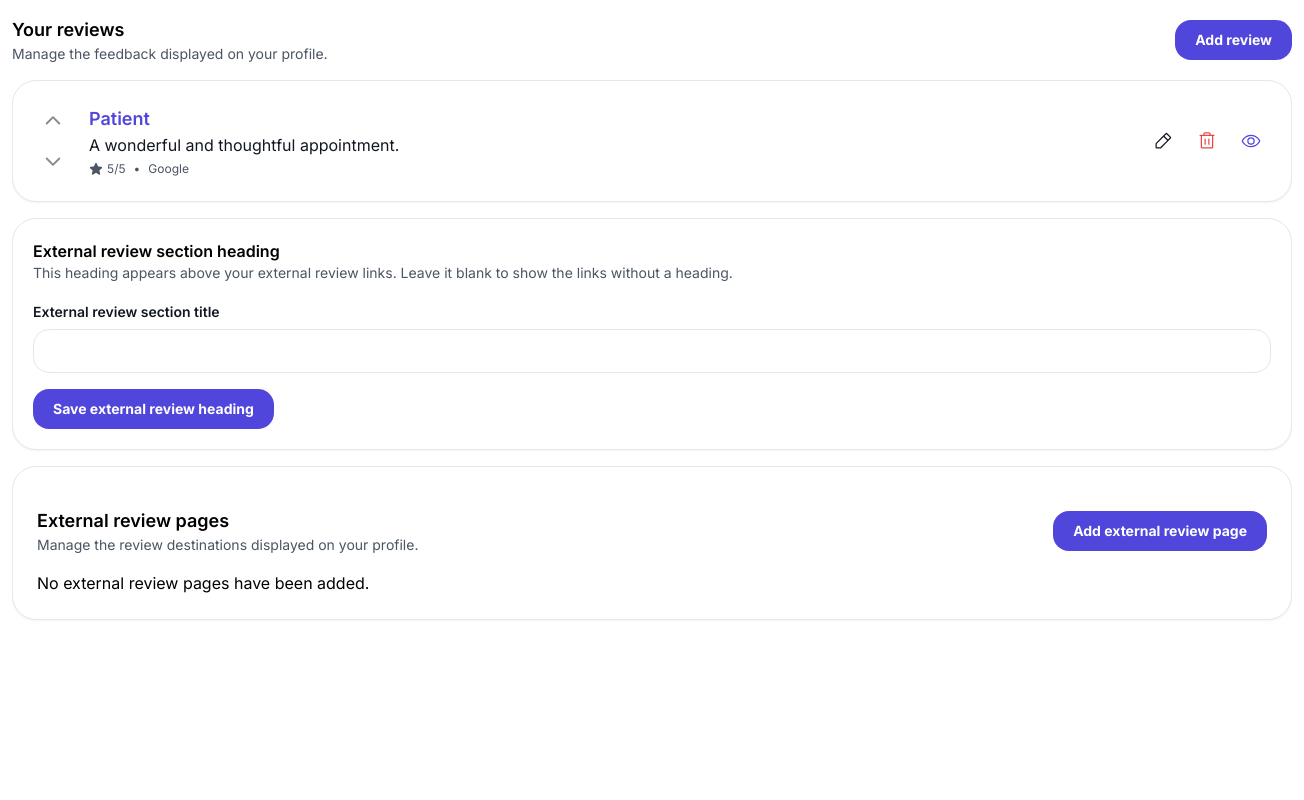
Test case: ReviewManager › updates review visibility after the authoritative toggle succeeds
Click the button named "Hide Patient". click: (1251, 141)
box: x1=1231 y1=121 x2=1271 y2=161
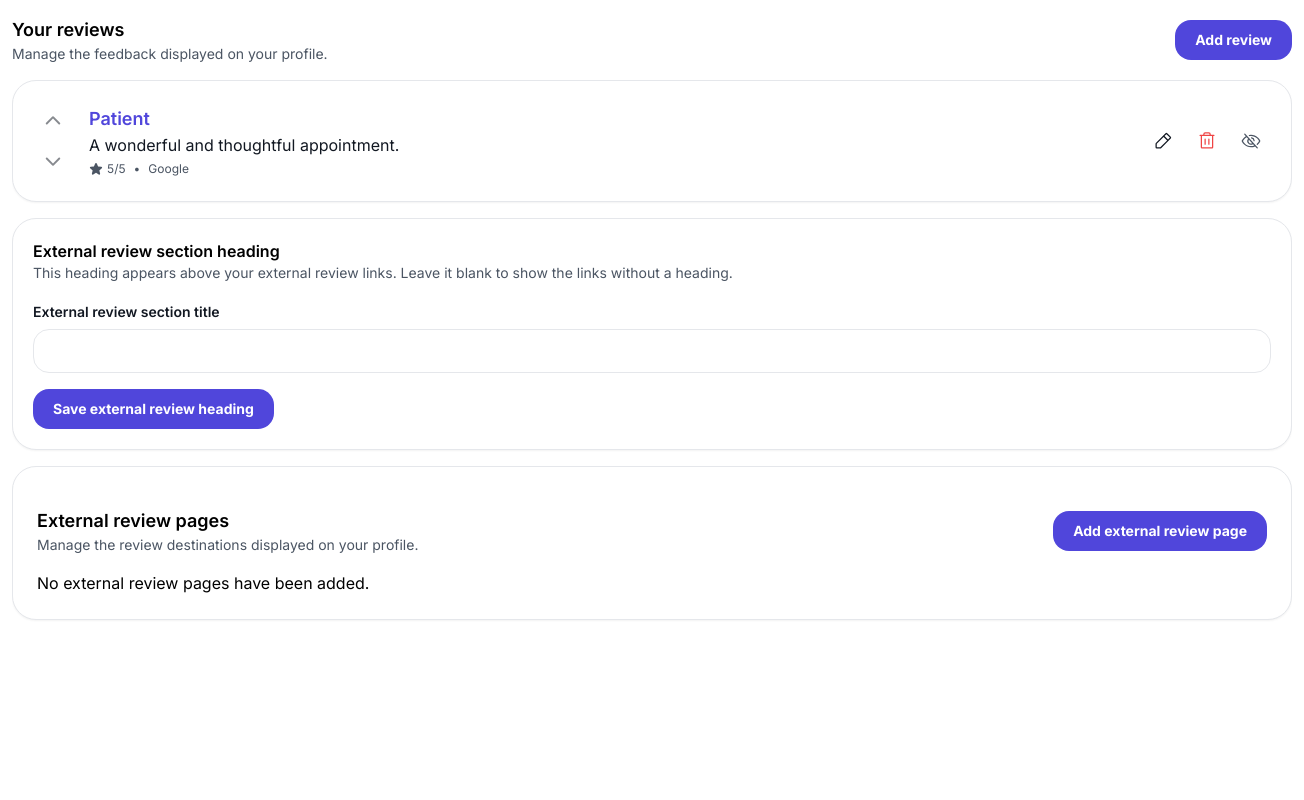
Expected: the button named "Show Patient" is shown, x1=1231 y1=121 x2=1271 y2=161
